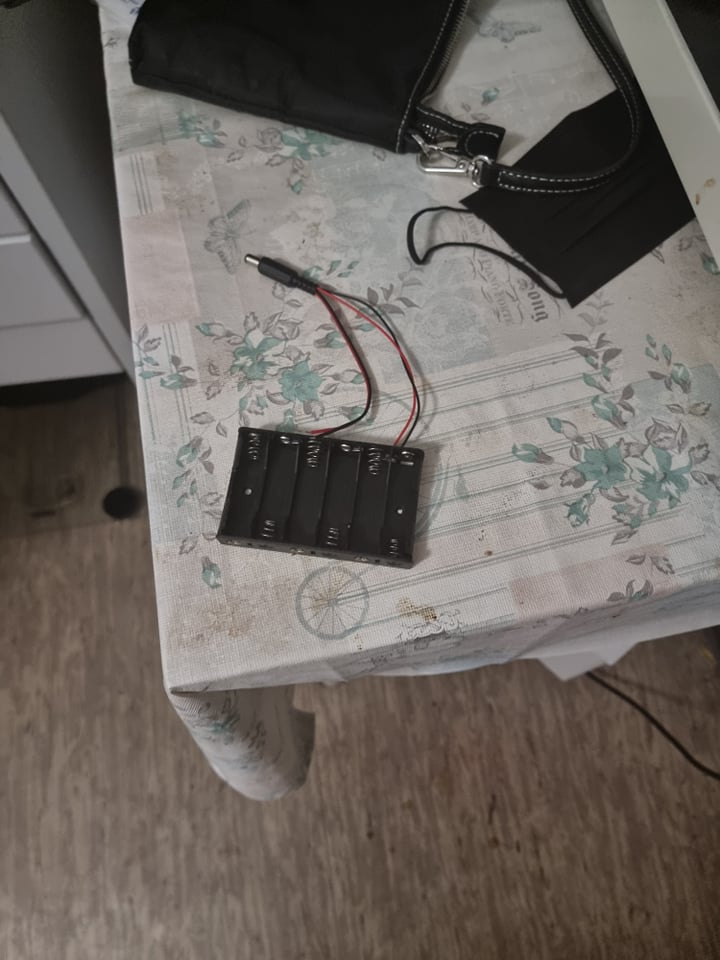BATTERY BOX: (216, 420, 424, 575)
